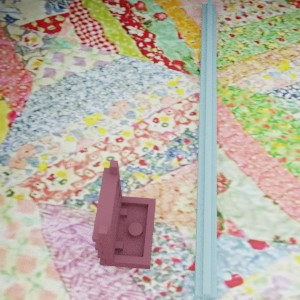lego: (91, 159, 155, 269), (194, 0, 216, 300)
